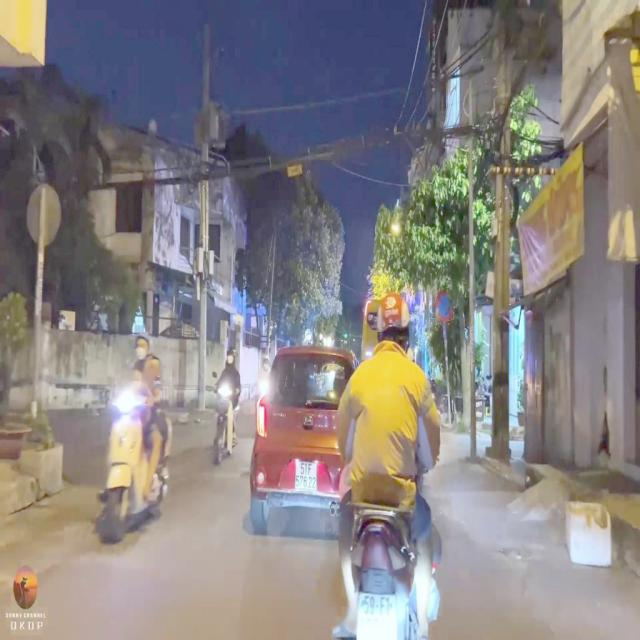cam_do_xe: (436, 290, 453, 322)
